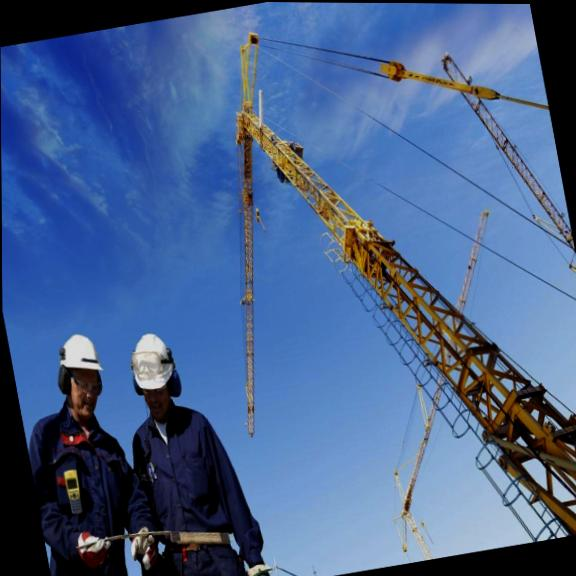no_safety_vest: (122, 393, 260, 576), (20, 395, 155, 576)
